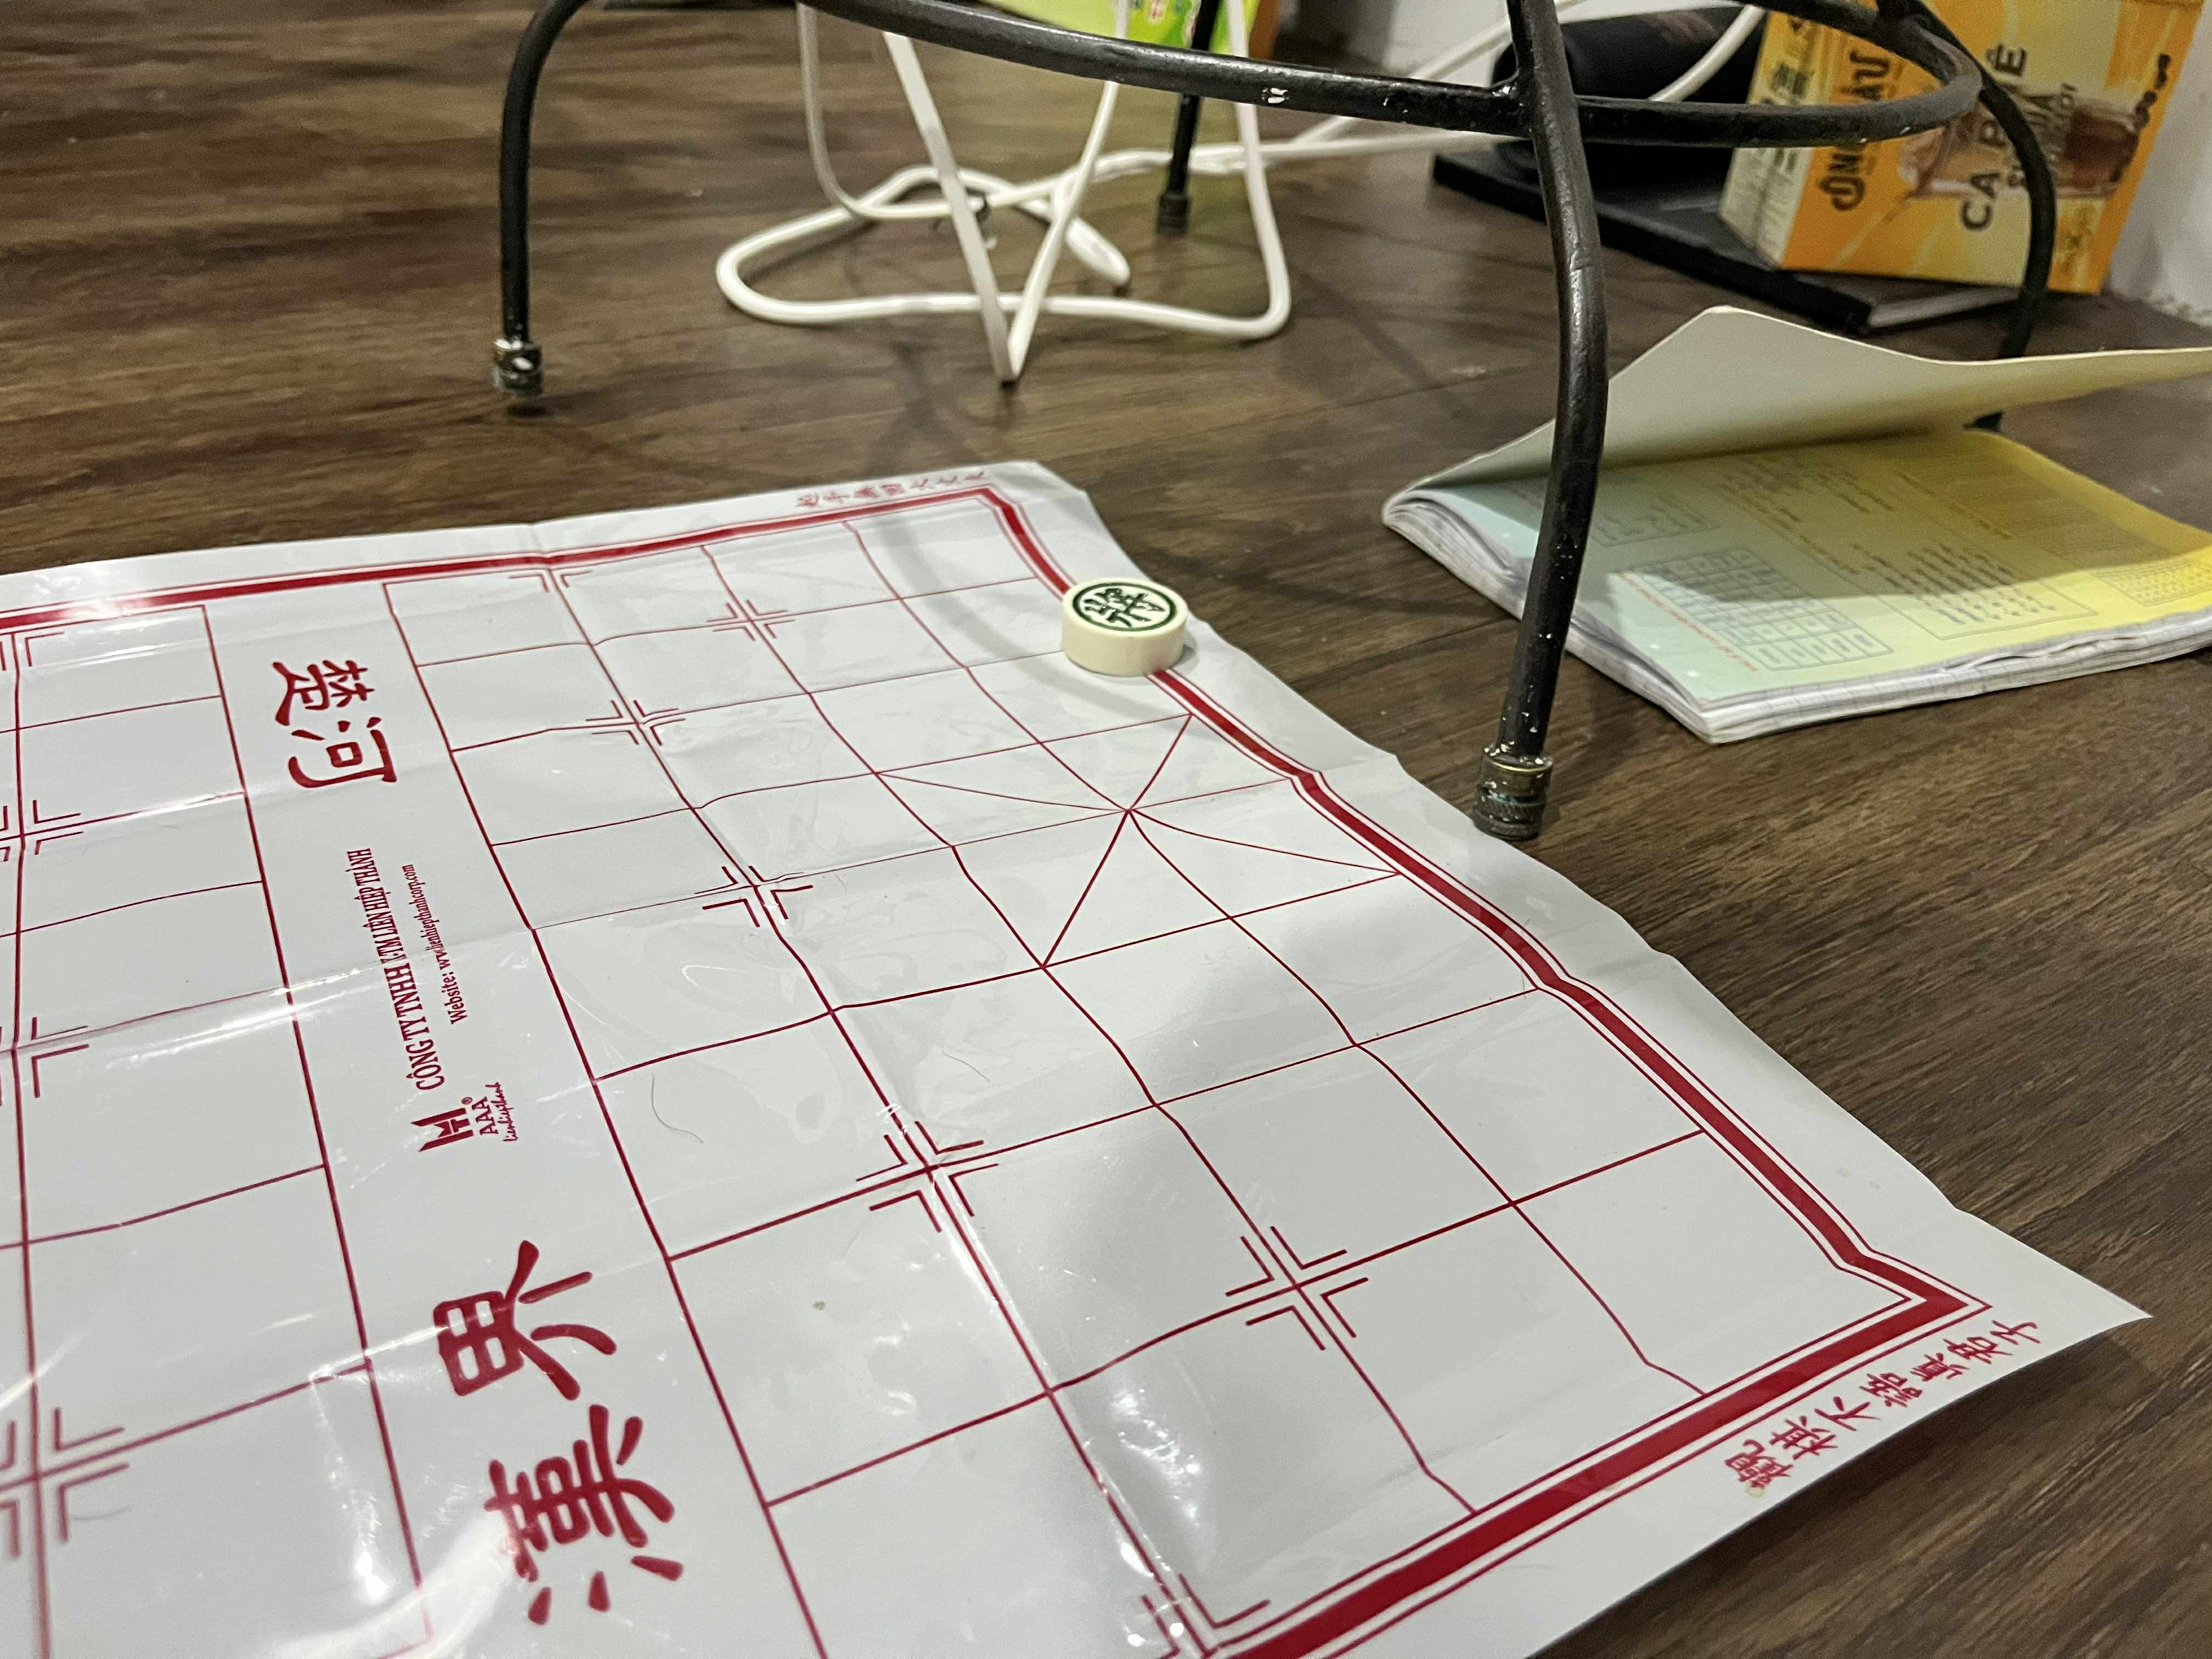black-general: (1062, 577, 1189, 641)
